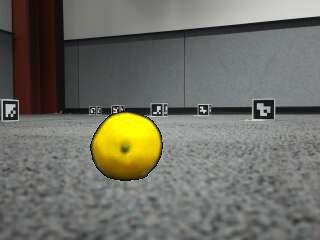lemon: (95, 115, 163, 182)
